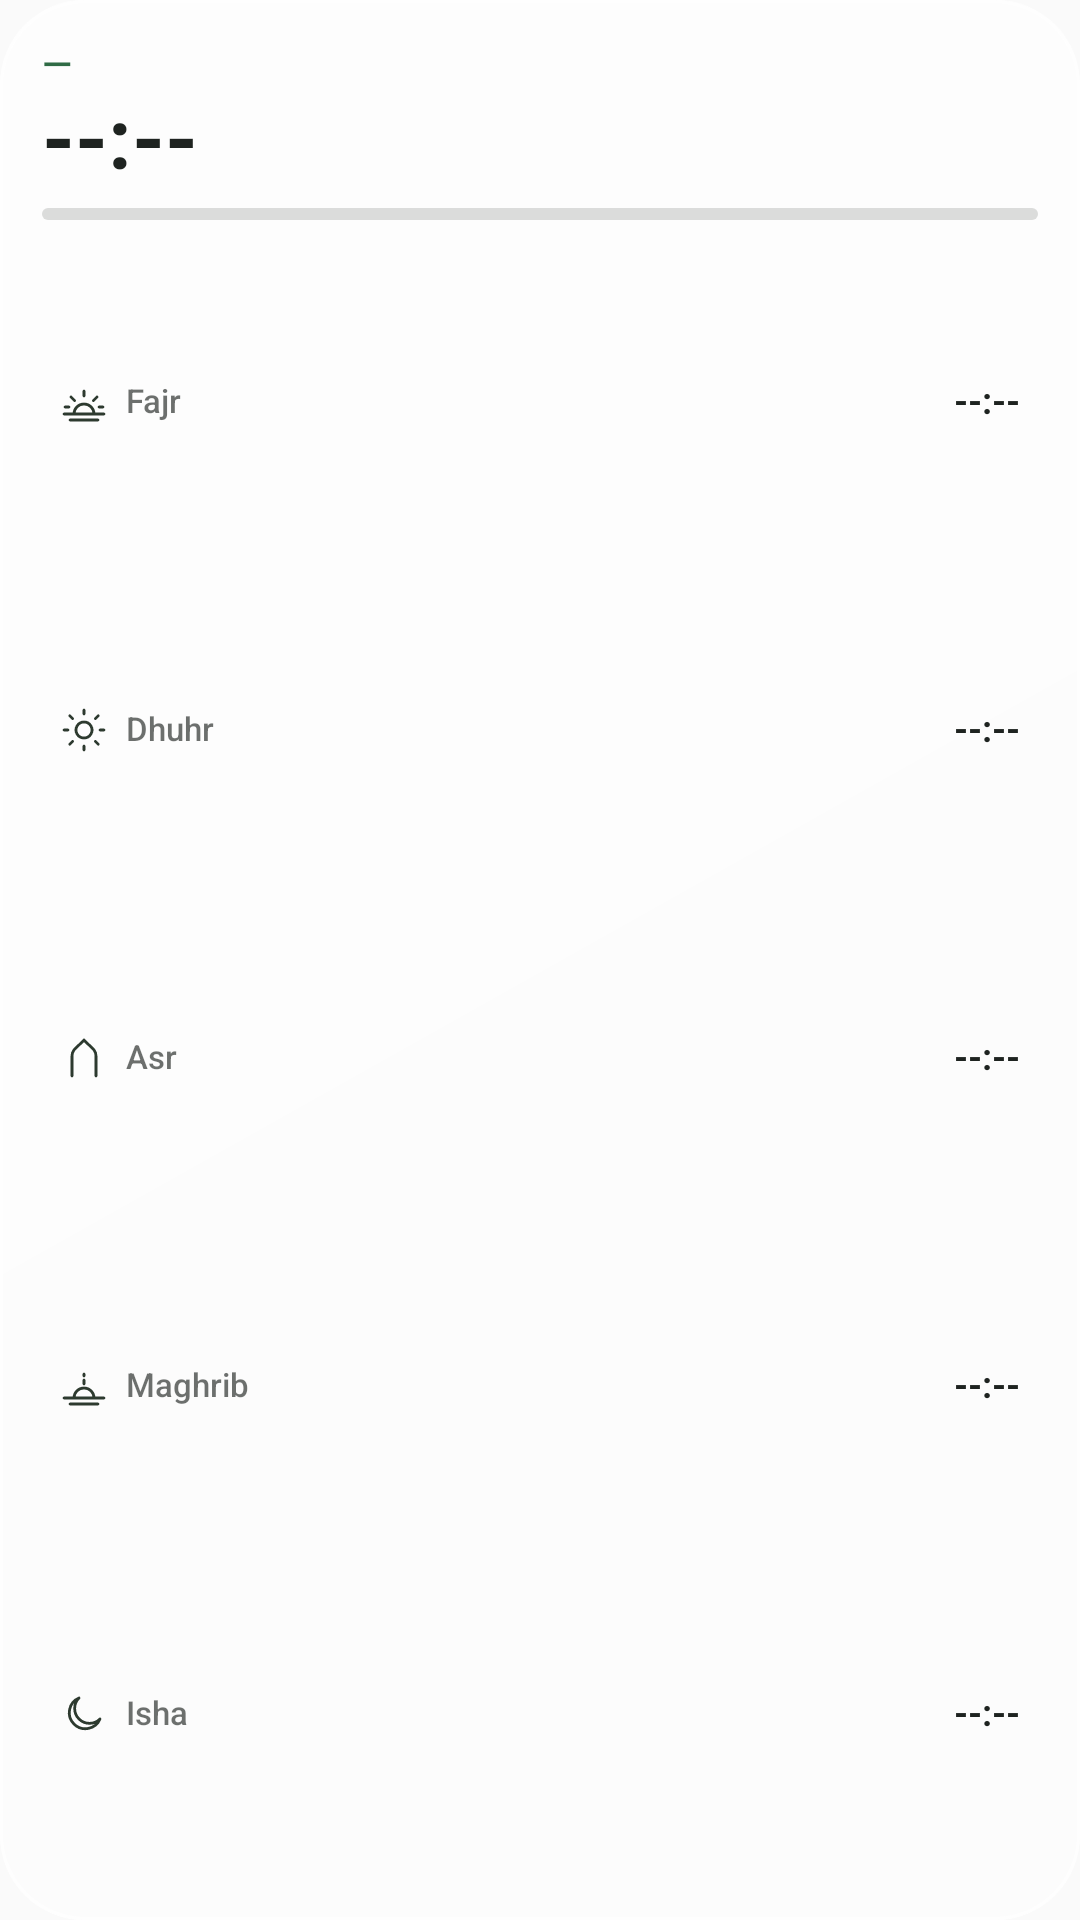

Icon bounding boxes for this 1080px×1920px phone screenshot, format (x1, y1, x2, y2):
ashar: (70, 1038, 98, 1078)
dzuhur: (62, 708, 106, 752)
isya: (67, 1696, 102, 1731)
subuh: (62, 389, 106, 422)
